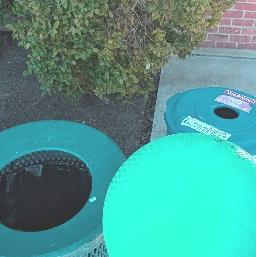algae: (102, 127, 256, 257)
